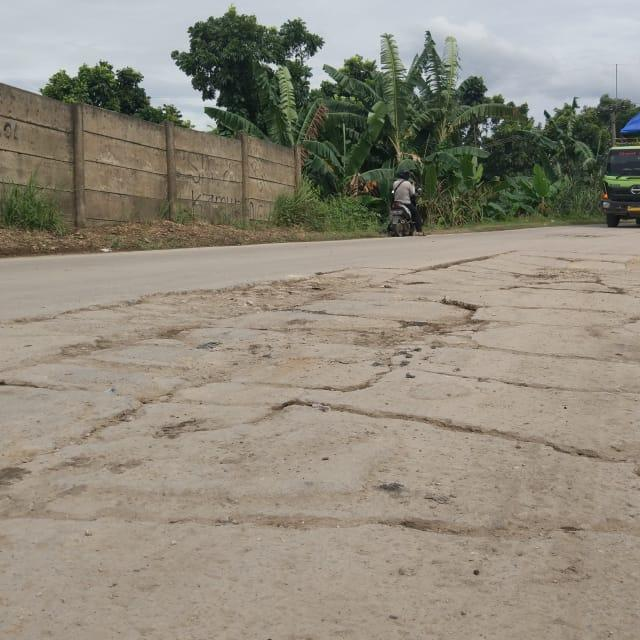retak_memanjang: (0, 248, 640, 640)
